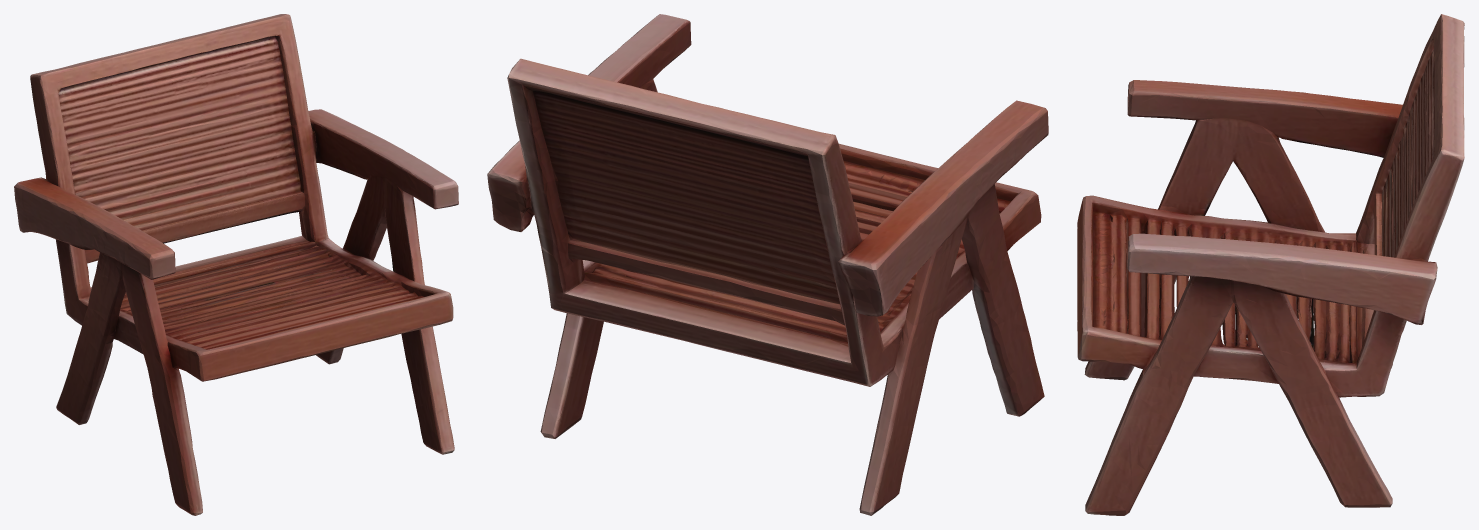
Rendered from ast_c2313401d014.glb.
3 views of the same model, side by side, from view 1: azimuth 30°, elevation 25°; view 2: azimuth 150°, elevation 25°; view 3: azimuth 270°, elevation 25° (orthographic). The views are drawn at different scales.
Visible parts, largest first — view 1: geometry_0; view 2: geometry_0; view 3: geometry_0.
Part boxes in pixels (<box>): geometry_0: <box>14,14,458,515</box>; geometry_0: <box>487,14,1048,515</box>; geometry_0: <box>1077,14,1464,515</box>.
Bounding box in the file's own units: 0.6251 × 0.6302 × 0.6073.
1 material, 1 textured.
